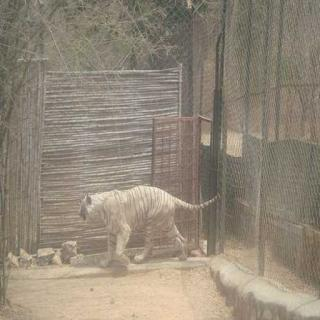Tiger: (67, 182, 213, 272)
